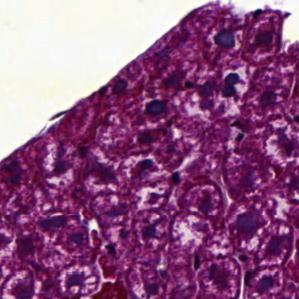inflammation: (182, 181, 226, 220), (263, 118, 299, 165), (58, 264, 99, 297), (140, 93, 173, 128), (220, 64, 252, 98)
